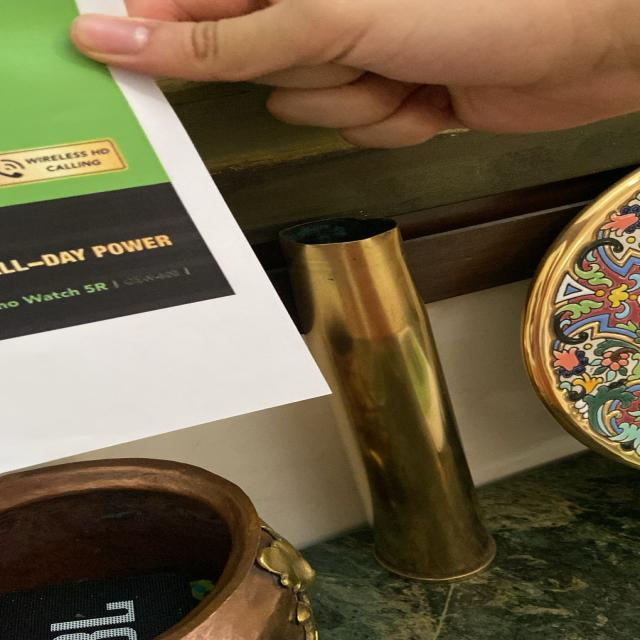Oraimo Watch 5R OSW-820: (1, 261, 206, 318)
